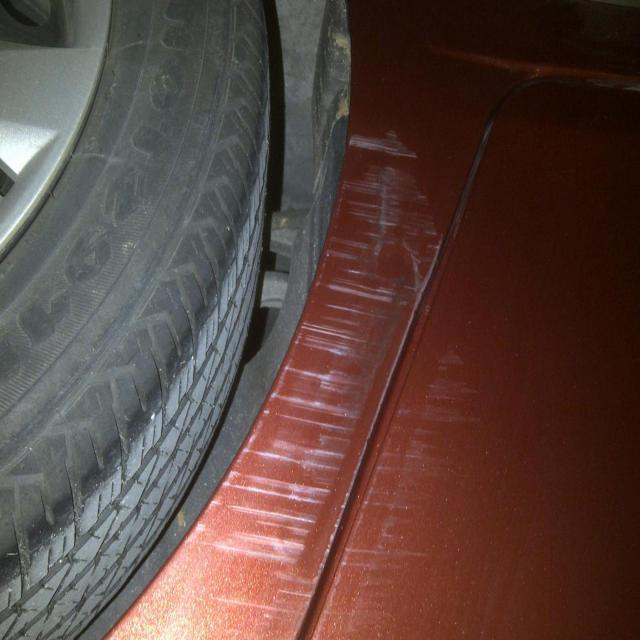scratch: (129, 104, 500, 640)
